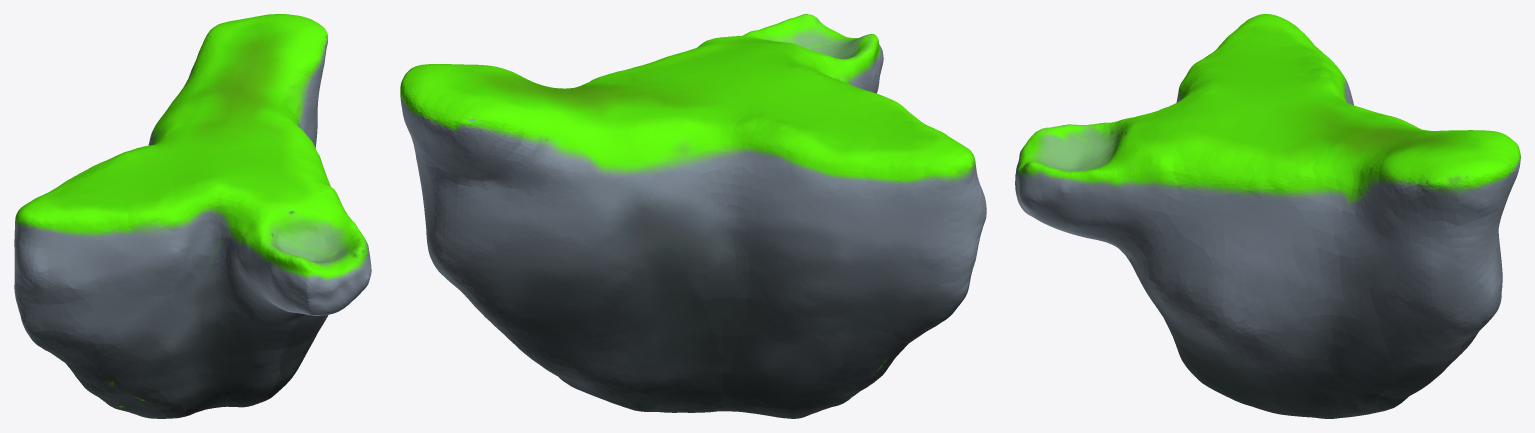
File: LylasIsland.fbx
The picture shows the model from 3 angles, left to right: view 1: azimuth 30°, elevation 25°; view 2: azimuth 150°, elevation 25°; view 3: azimuth 270°, elevation 25°; orthographic projection. The views are drawn at different scales.
Parts seen in each view (by area): view 1: Island 3; view 2: Island 3; view 3: Island 3.
Part boxes in pixels (box(x1,y1,x2,y2)): Island 3: box(14, 14, 371, 418); Island 3: box(400, 14, 986, 418); Island 3: box(1015, 14, 1520, 418).
Bounding box in the file's own units: 4340 × 3103 × 4301.
